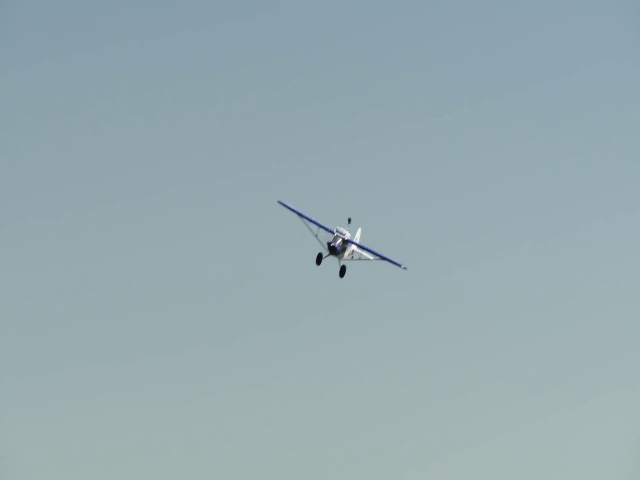drone: (276, 194, 413, 278)
